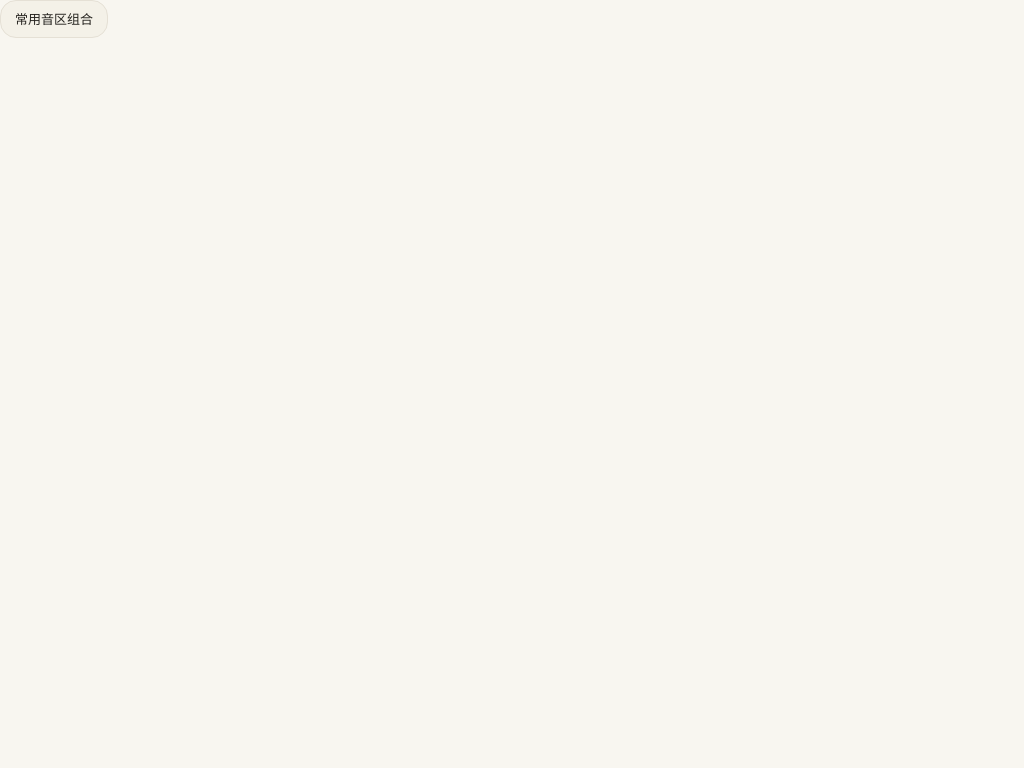
Test: 旧 Core 列表迟到不会覆盖当前 Core 的组合
Step 1. Click the button "常用音区组合" → [54, 19], box x1=0 y1=0 x2=108 y2=38
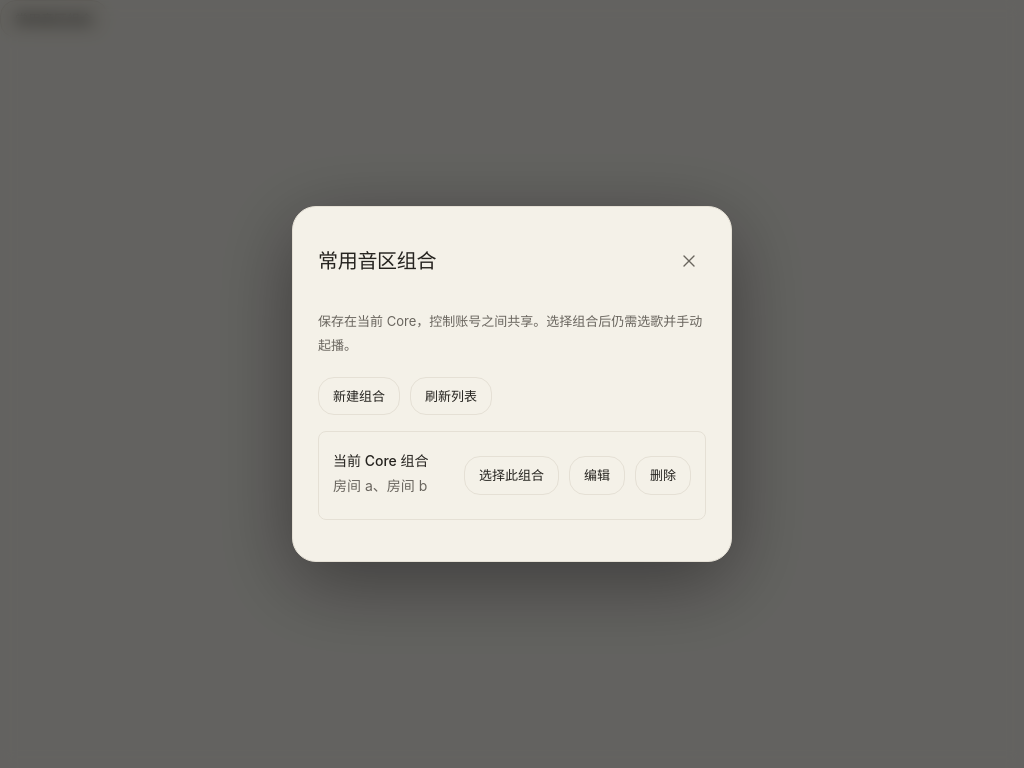
Check: the text "当前 Core 组合" is shown, box x1=333 y1=452 x2=429 y2=470
